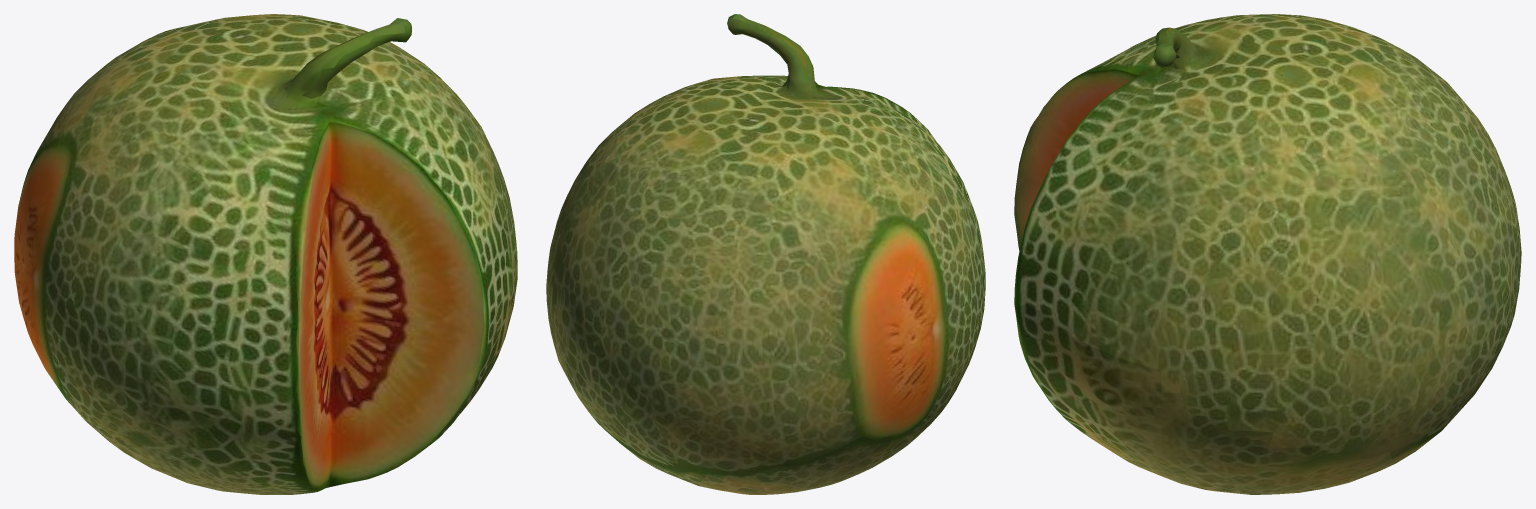
The model's file is melon.glb.
The picture shows the model from 3 angles, left to right: view 1: azimuth 30°, elevation 25°; view 2: azimuth 150°, elevation 25°; view 3: azimuth 270°, elevation 25°; orthographic projection. The views are drawn at different scales.
Visible parts, largest first — view 1: melon; view 2: melon; view 3: melon.
Boxes of the visible parts, x1=… form: melon: x1=14, y1=14, x2=517, y2=494; melon: x1=546, y1=14, x2=985, y2=494; melon: x1=1014, y1=14, x2=1521, y2=494.
Size of the model in its own units: 0.9828 by 0.9986 by 1.
1 material, 1 textured.
